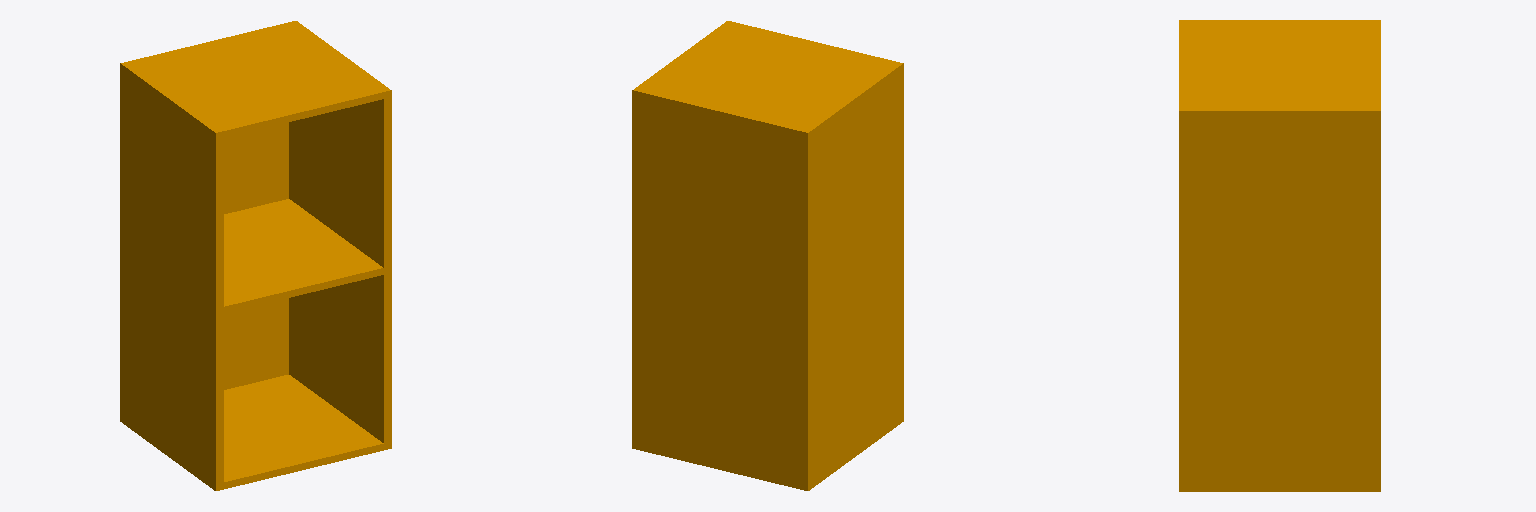
The robot description file, URDF, robot "small_white_shelf_model":
<robot name="small_white_shelf_model">
  <link name="small_white_shelf">
    <inertial>
      <mass value="30.0" />
      <!-- center of mass (com) is defined w.r.t. link local coordinate system -->
      <origin xyz="0 0 0" /> 
      <inertia  ixx="0.01" ixy="0.0"  ixz="0.0"  iyy="0.01"  iyz="0.0"  izz="0.01" />
    </inertial>
    <visual>
      <!-- visual origin is defined w.r.t. link local coordinate system -->
      <origin xyz="0 0 0" rpy="0 0 0" />
      <geometry>
        <mesh filename="package://manipulation_worlds/meshes/small_white_shelf.dae" scale="1.0 1.0 1.0" />
      </geometry>
    </visual>
    <collision>
      <!-- collision origin is defined w.r.t. link local coordinate system -->
      <origin xyz="0 0 0" rpy="0 0 0" />
      <geometry>
        <mesh filename="package://manipulation_worlds/meshes/small_white_shelf.stl" scale="1.0 1.0 1.0" />
      </geometry>
    </collision>
  </link>
  <gazebo reference="small_white_shelf">
    <material>Gazebo/White</material>
    <turnGravityOff>false</turnGravityOff>
    <genTexCoord>true</genTexCoord>
    <kp>100000000.0</kp>
    <kd>1000000.0</kd>
    <mu1>0.3</mu1>
    <mu2>0.3</mu2>
  </gazebo>
  <gazebo>
    <static>true</static>
  </gazebo>
</robot>

--- What the picture shows (computed from the rendered views, not written in the file) ---
Views: 3 orthographic renders of the robot side by side, from view 1: azimuth 30°, elevation 25°; view 2: azimuth 150°, elevation 25°; view 3: azimuth 270°, elevation 25°.
Robot: small_white_shelf_model — 1 links, 0 joints (none); root link small_white_shelf; default pose: all joints at 0.
Links seen in each view (by area): view 1: small_white_shelf; view 2: small_white_shelf; view 3: small_white_shelf.
Link boxes in pixels (x1,y1,x2,y2): small_white_shelf: (120, 21, 391, 490); small_white_shelf: (632, 21, 903, 490); small_white_shelf: (1179, 20, 1380, 491).
Bounding box of the posed robot: 0.314 × 0.295 × 0.612 m (x, y, z).
1 mesh visuals loaded from 1 distinct referenced files (1 Collada DAE).